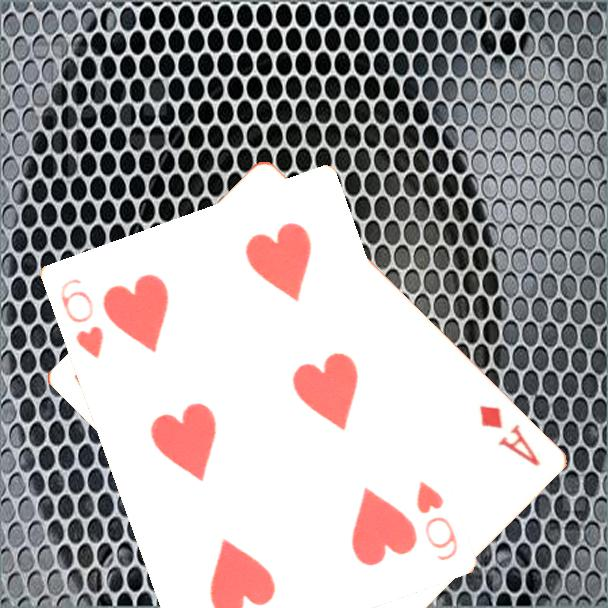d01: (474, 401, 543, 469)
h06: (56, 274, 106, 362), (412, 477, 460, 564)
